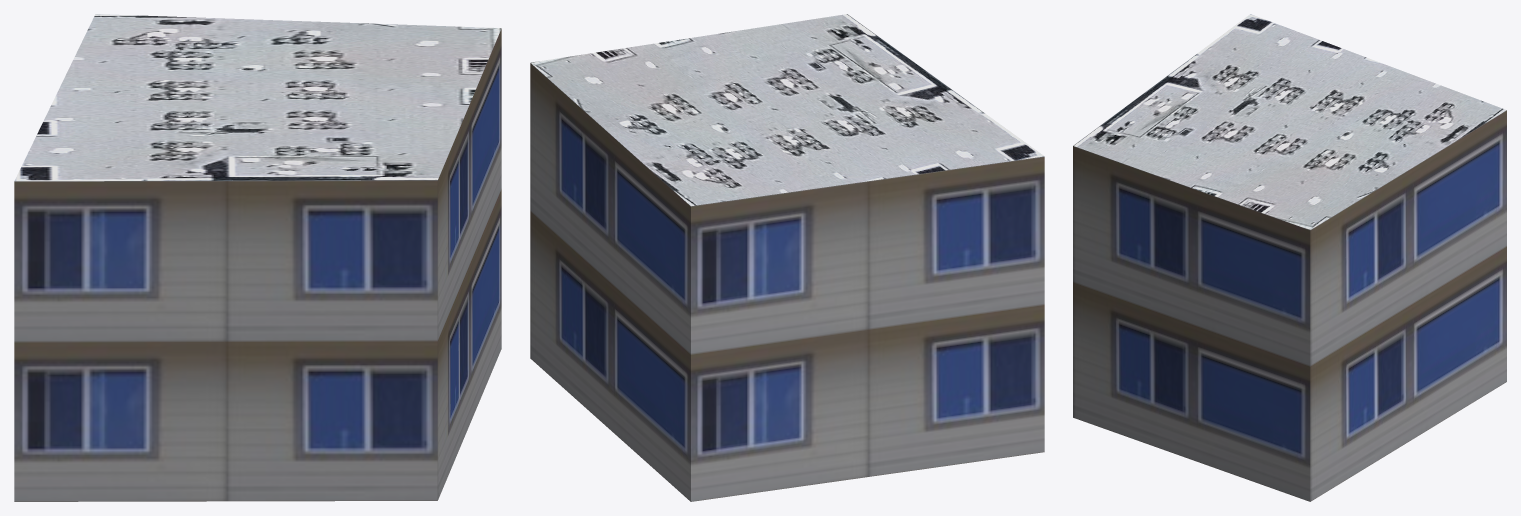
Rendered from ResTex__3889.fbx.
3 views of the same model, side by side, from view 1: azimuth 30°, elevation 25°; view 2: azimuth 150°, elevation 25°; view 3: azimuth 270°, elevation 25° (orthographic). The views are drawn at different scales.
Parts seen in each view (by area): view 1: CityEngineMaterial_23_m, CityEngineMaterial_4_m; view 2: CityEngineMaterial_23_m, CityEngineMaterial_4_m; view 3: CityEngineMaterial_23_m, CityEngineMaterial_4_m.
Part boxes in pixels (x1,y1,x2,y2): CityEngineMaterial_23_m: [14, 29, 501, 501]; CityEngineMaterial_4_m: [14, 14, 501, 181]; CityEngineMaterial_23_m: [530, 63, 1044, 501]; CityEngineMaterial_4_m: [530, 14, 1044, 206]; CityEngineMaterial_23_m: [1073, 110, 1506, 501]; CityEngineMaterial_4_m: [1073, 14, 1506, 229].
Bounding box in the file's own units: 10.24 × 6 × 8.68.
Materials: 2 (2 with a texture image).
